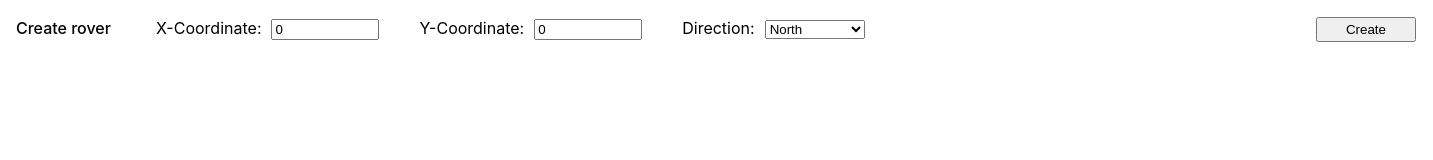
Test: CreateControl Component › should disable create button if y coordinate input is empty
Clear the number field named "y-input" at coordinates (588, 30), box [534,19,642,40]
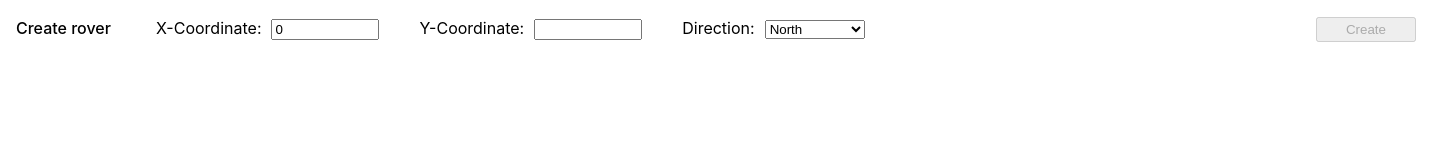
Result: the button "Create" is disabled at [1316,16,1416,42]
